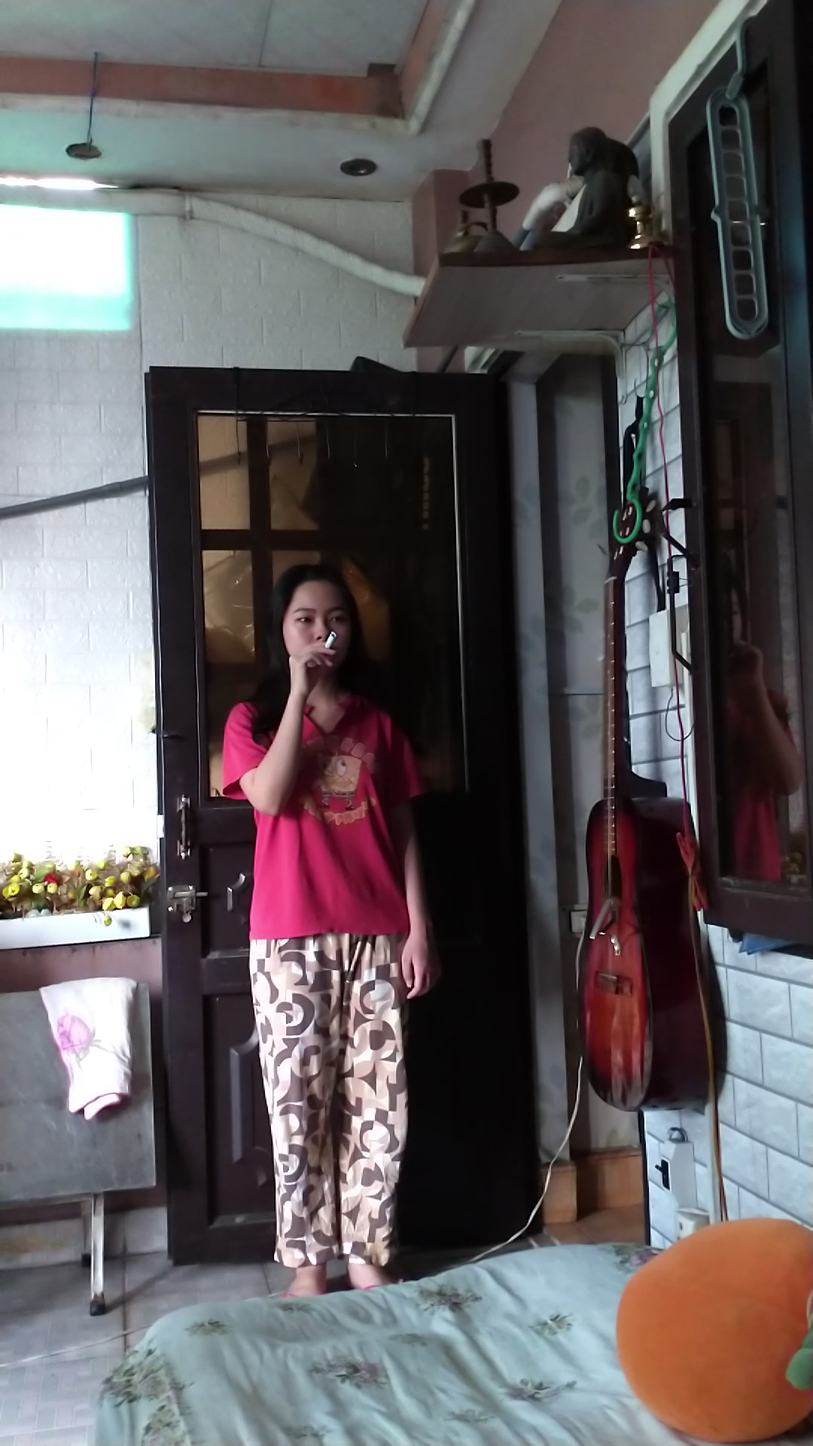cigarette: (324, 629, 339, 651)
person: (216, 520, 435, 1302)
